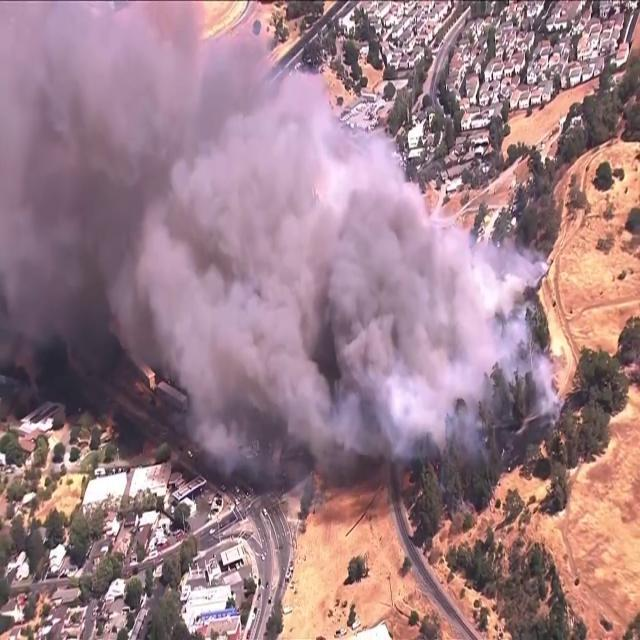Smoke: (0, 4, 536, 476)
